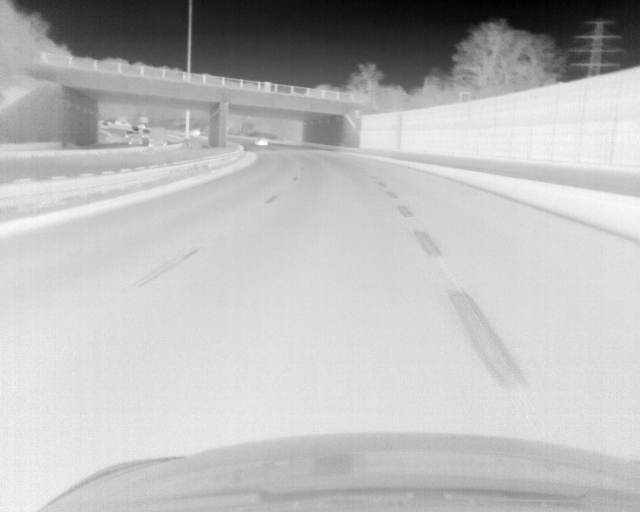car: (148, 124, 170, 149), (254, 135, 270, 146), (128, 136, 144, 146), (125, 130, 133, 138), (141, 129, 150, 136)
